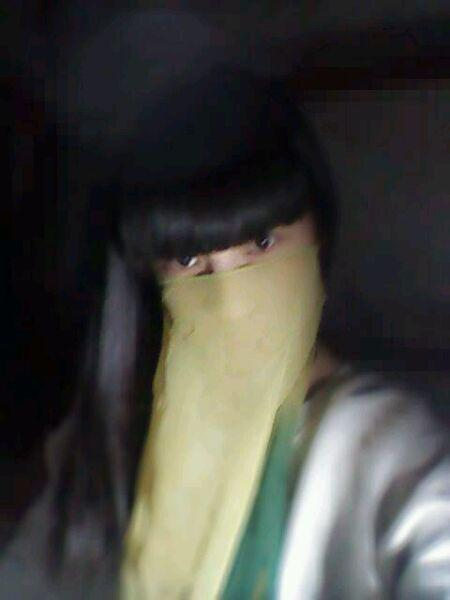OK: (168, 230, 301, 363)
